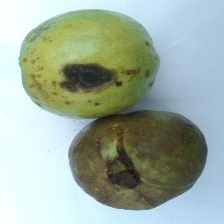guava: (35, 22, 200, 163)
